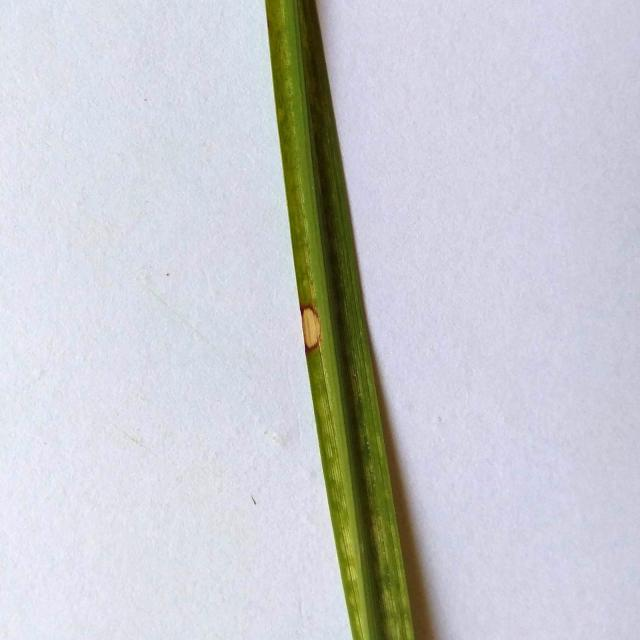Leaf blast: (208, 2, 459, 640)
